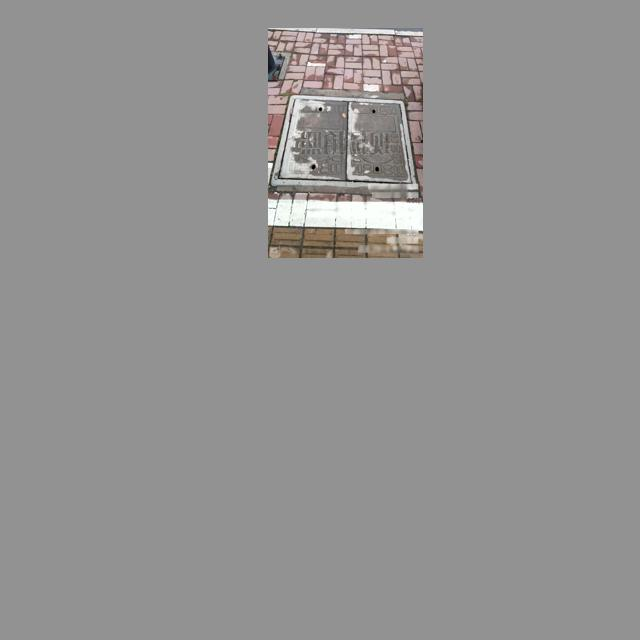good: (272, 93, 418, 186)
